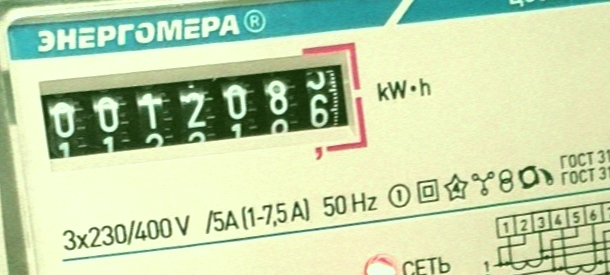0: (91, 89, 124, 135), (48, 94, 78, 139), (221, 79, 250, 121)
1: (136, 86, 163, 130)
2: (179, 87, 210, 129)
6: (303, 89, 332, 128)
8: (263, 74, 291, 116)
screen: (26, 19, 382, 206)
